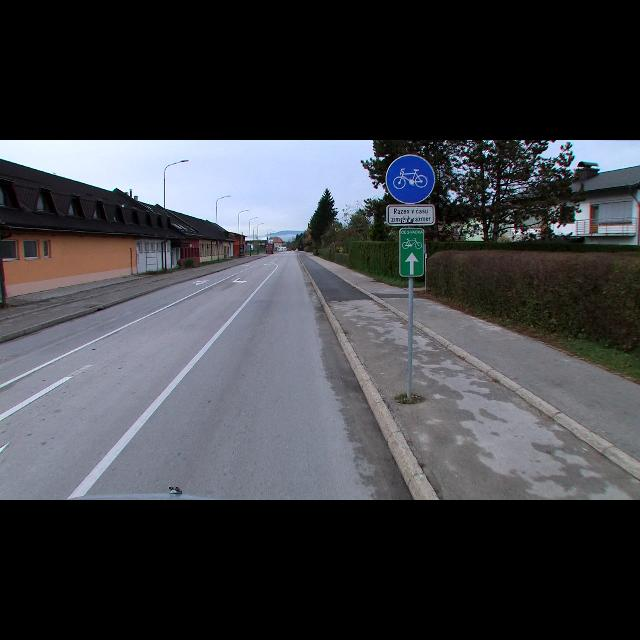Rectangle: (388, 207, 434, 225)
Round: (386, 155, 436, 205)
Squared: (400, 228, 424, 276)
